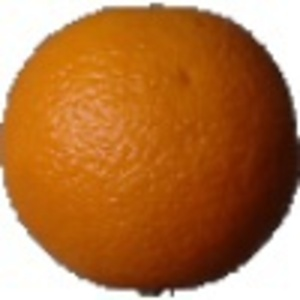laranja: (2, 2, 298, 295)
